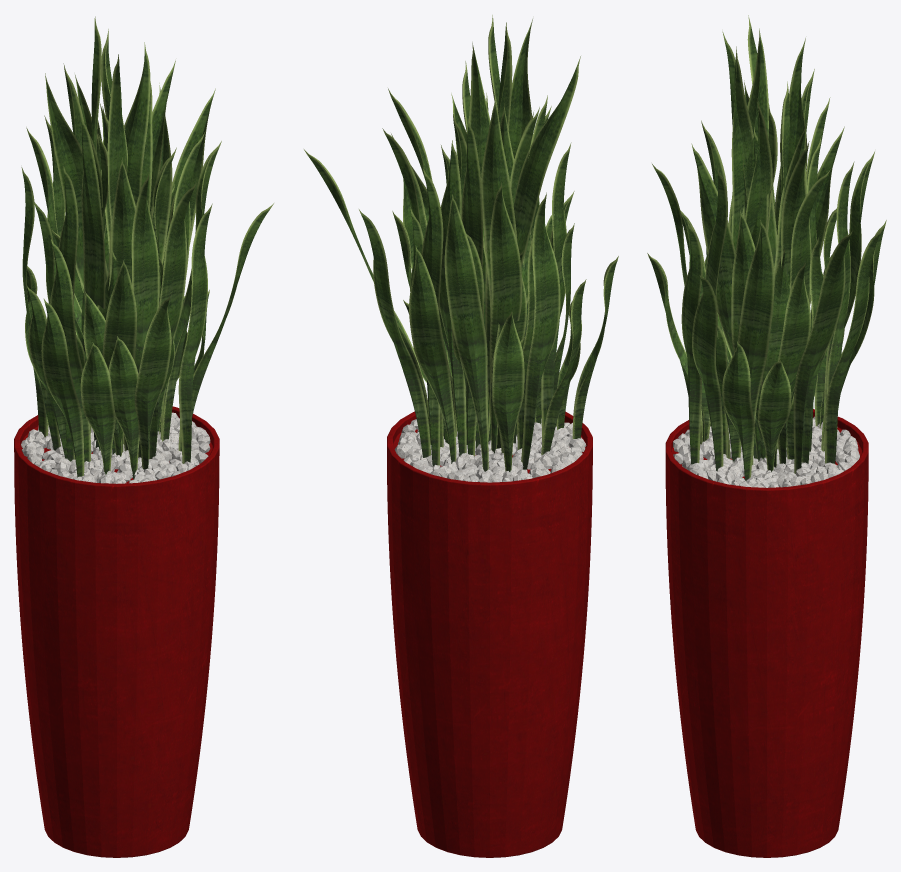
3 views of the same model, side by side, from view 1: azimuth 30°, elevation 25°; view 2: azimuth 150°, elevation 25°; view 3: azimuth 270°, elevation 25° (orthographic).
Parts seen in each view (by area): view 1: vase_red_0, sansevieri, stones_vas; view 2: vase_red_0, sansevieri, stones_vas; view 3: vase_red_0, sansevieri, stones_vas.
Boxes of the visible parts, bbox=[...] form: vase_red_0: bbox=[14, 406, 219, 857]; sansevieri: bbox=[21, 16, 273, 479]; stones_vas: bbox=[21, 412, 210, 483]; vase_red_0: bbox=[387, 411, 592, 857]; sansevieri: bbox=[304, 15, 618, 471]; stones_vas: bbox=[394, 418, 586, 482]; vase_red_0: bbox=[665, 409, 868, 857]; sansevieri: bbox=[647, 15, 886, 480]; stones_vas: bbox=[673, 416, 859, 487].
Bounding box in the file's own units: 464 × 1462 × 399.
Materials: 3 (3 with a texture image).
